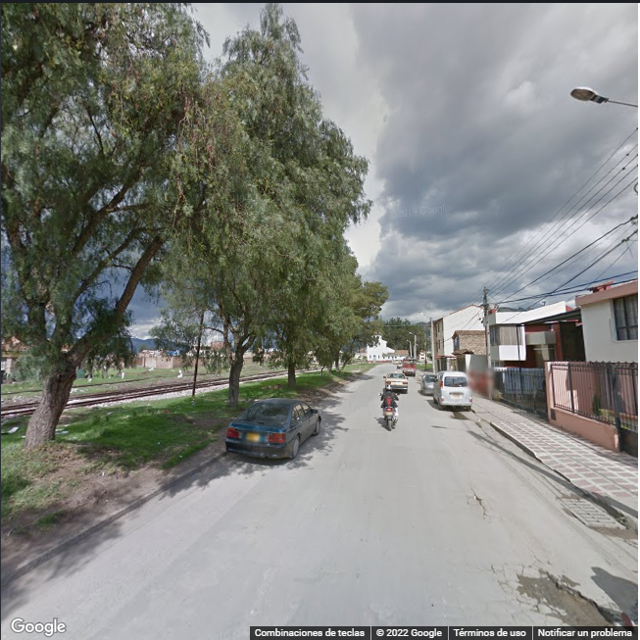D00: (466, 481, 494, 518), (500, 559, 516, 598)
D40: (535, 558, 617, 624)
